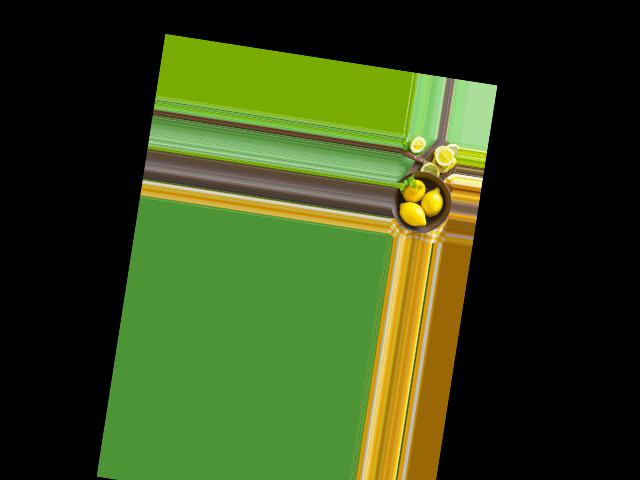lemon: (393, 197, 431, 231)
